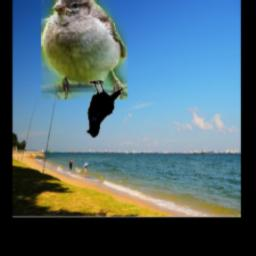Crow: (86, 79, 124, 138)
Sparrow: (42, 0, 128, 100)
